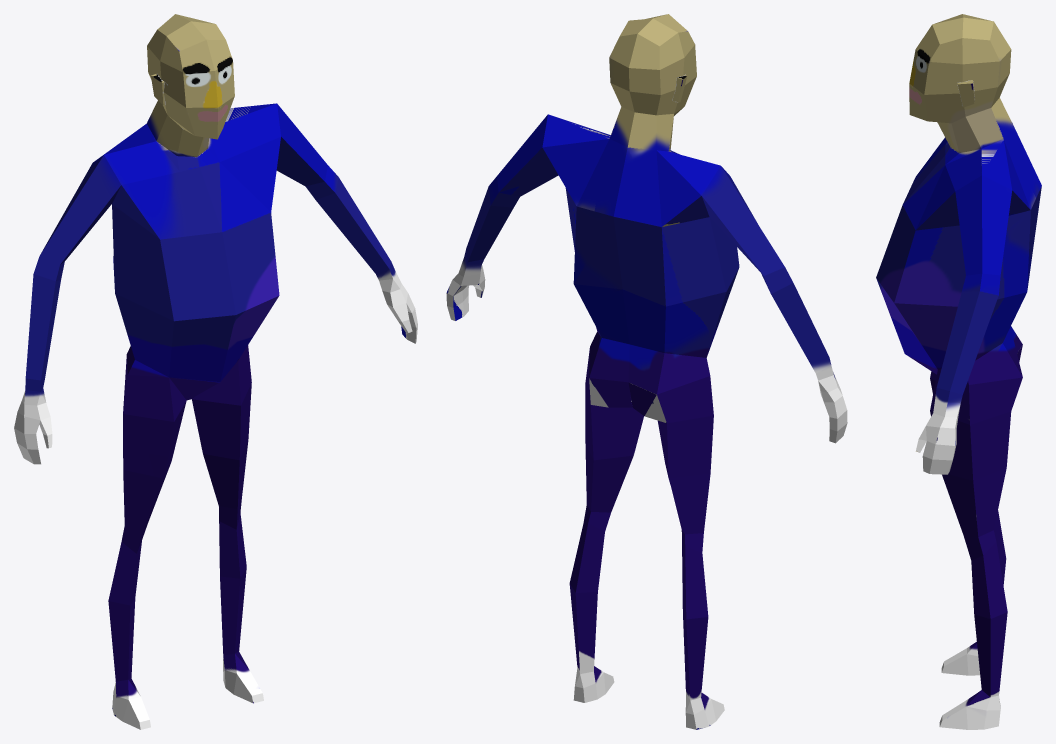
Rendered from boss.obj.
3 views of the same model, side by side, from view 1: azimuth 30°, elevation 25°; view 2: azimuth 150°, elevation 25°; view 3: azimuth 270°, elevation 25° (orthographic).
Parts seen in each view (by area): view 1: Cylinder; view 2: Cylinder; view 3: Cylinder.
Part boxes in pixels (x1,y1,x2,y2): Cylinder: (14, 14, 417, 729); Cylinder: (446, 14, 847, 729); Cylinder: (876, 14, 1041, 729).
Size of the model in its own units: 1.85 by 3.09 by 0.6825.
